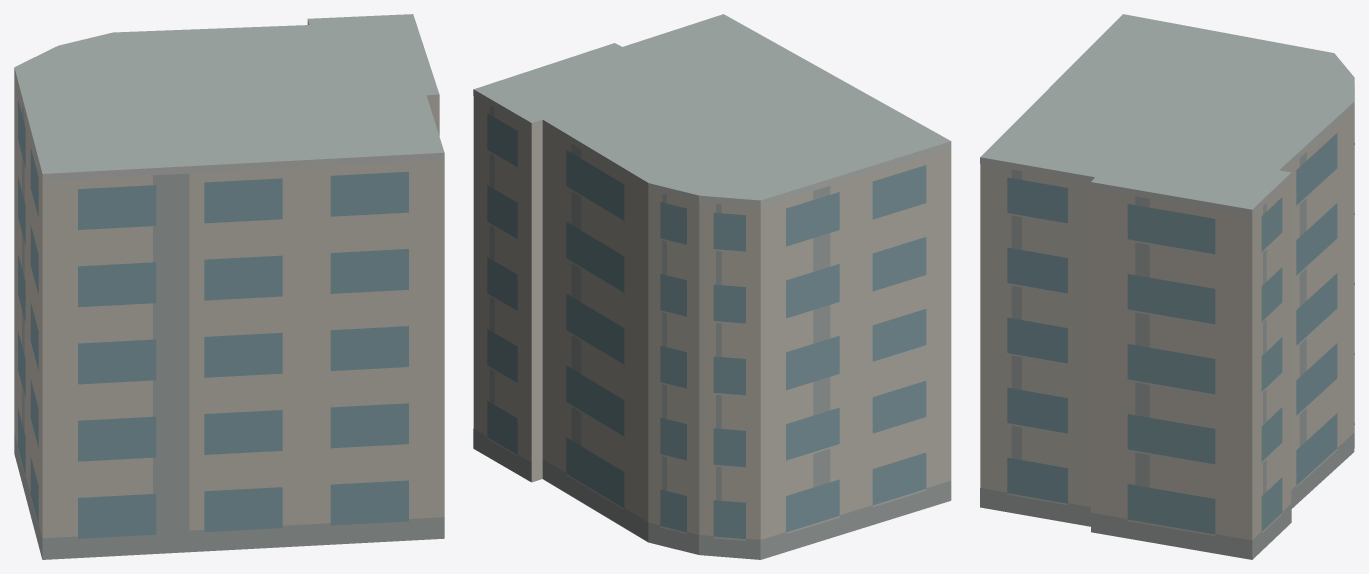
The model's file is survey-upis-32565149.glb.
3 views of the same model, side by side, from view 1: azimuth 30°, elevation 25°; view 2: azimuth 150°, elevation 25°; view 3: azimuth 270°, elevation 25° (orthographic). The views are drawn at different scales.
Visible parts, largest first — view 1: survey-upis-32565149.tmp; view 2: survey-upis-32565149.tmp; view 3: survey-upis-32565149.tmp.
Part boxes in pixels (box(x1,y1,x2,y2)): survey-upis-32565149.tmp: box(14, 14, 444, 559); survey-upis-32565149.tmp: box(473, 14, 951, 559); survey-upis-32565149.tmp: box(980, 14, 1354, 559).
Size of the model in its own units: 15.35 by 12.8 by 12.42.
